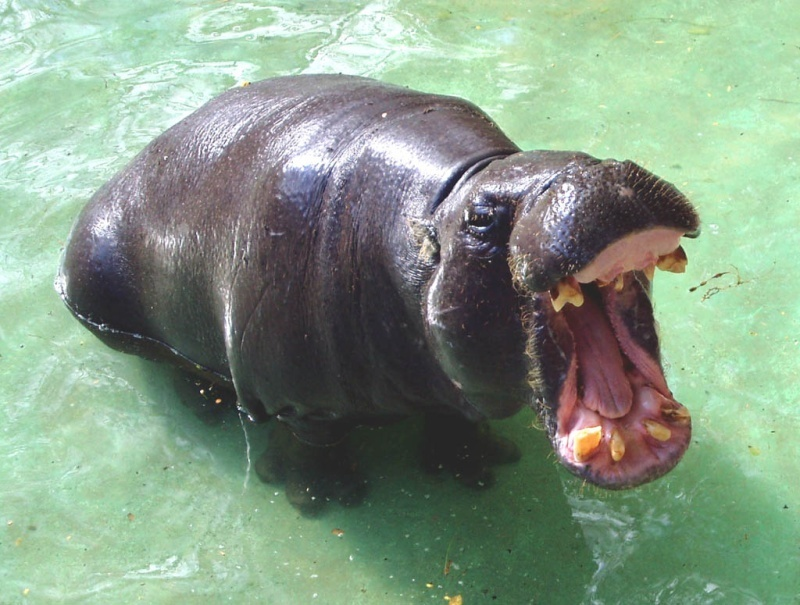hipopotamo: (48, 52, 728, 542)
